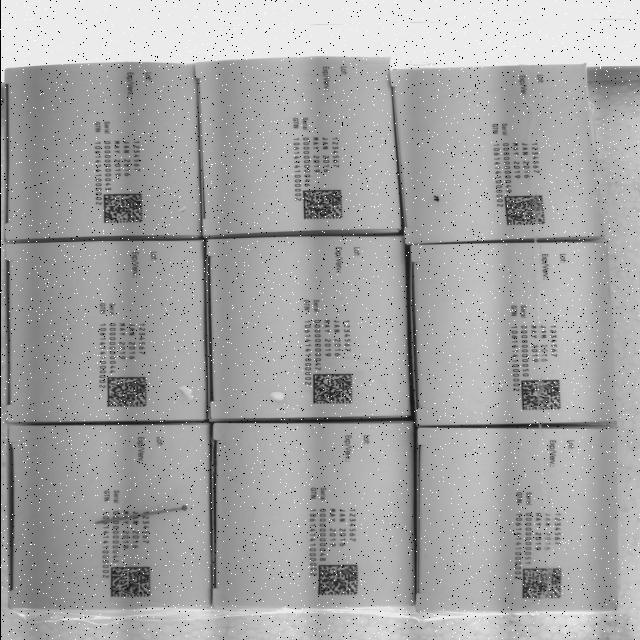datamatrix: (100, 191, 144, 225), (503, 192, 546, 226), (520, 567, 563, 601), (311, 371, 354, 405), (314, 563, 358, 596), (519, 380, 562, 413), (301, 188, 344, 221), (108, 566, 151, 599), (105, 376, 148, 409)
